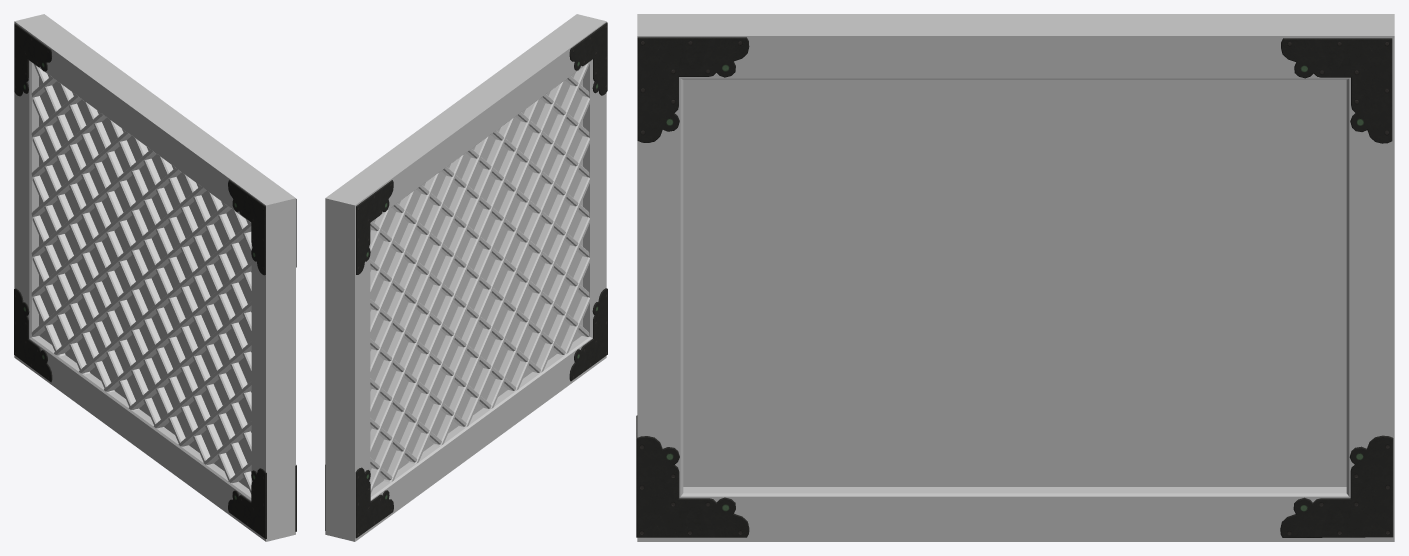
The model's file is SM_GJJ_2F_Window01A.fbx.
3 views of the same model, side by side, from view 1: azimuth 30°, elevation 25°; view 2: azimuth 150°, elevation 25°; view 3: azimuth 270°, elevation 25° (orthographic). The views are drawn at different scales.
Visible parts, largest first — view 1: SM_GJJ_2F_Window01A; view 2: SM_GJJ_2F_Window01A; view 3: SM_GJJ_2F_Window01A.
Boxes of the visible parts, left/top/right/bottom form: SM_GJJ_2F_Window01A: left=14, top=14, right=296, bottom=541; SM_GJJ_2F_Window01A: left=325, top=14, right=607, bottom=541; SM_GJJ_2F_Window01A: left=636, top=14, right=1394, bottom=541.
Bounding box in the file's own units: 3.05 × 41.69 × 30.71.
